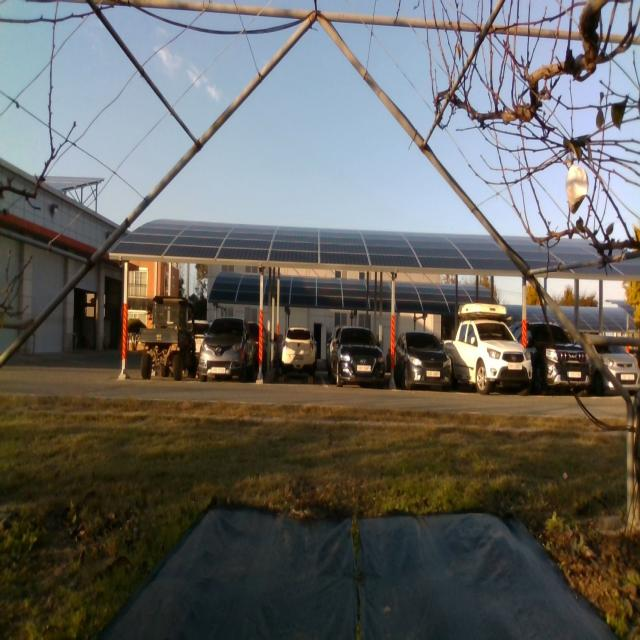pearbags: (567, 166, 588, 214)
